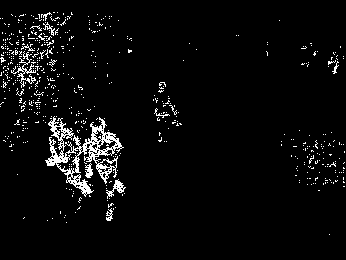person: (90, 115, 135, 223), (43, 116, 88, 207)
